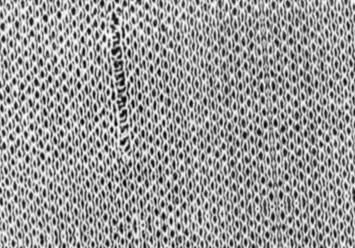slub: (103, 11, 141, 156)
